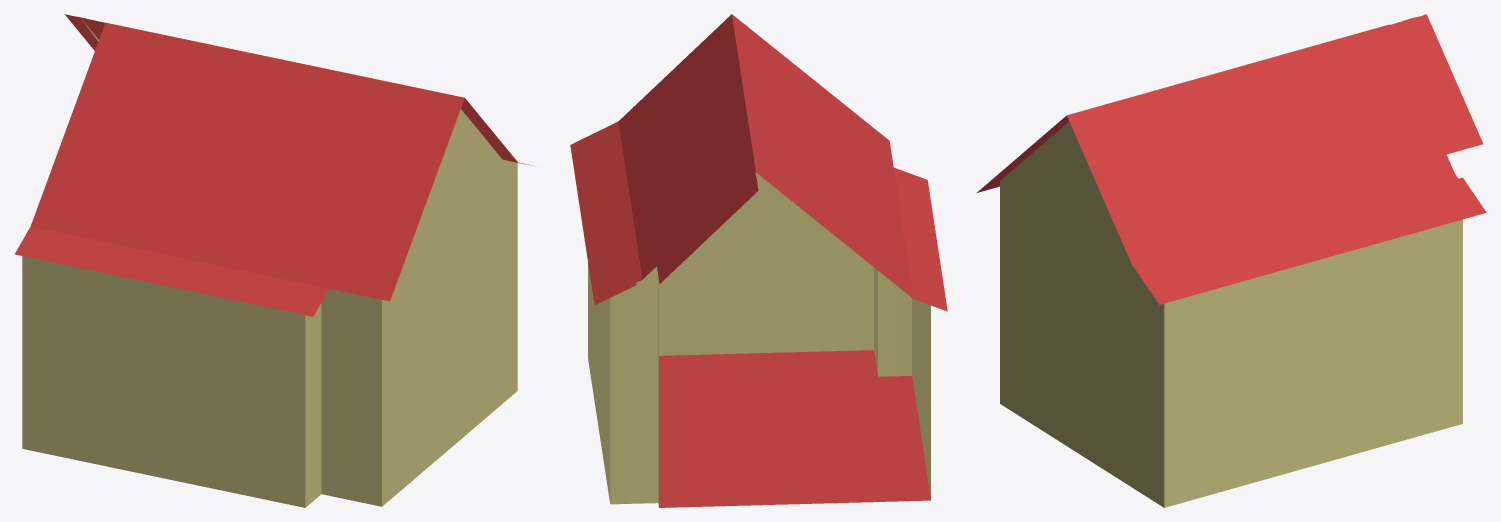
The picture shows the model from 3 angles, left to right: view 1: azimuth 30°, elevation 25°; view 2: azimuth 150°, elevation 25°; view 3: azimuth 270°, elevation 25°; orthographic projection. The views are drawn at different scales.
Bounding box in the file's own units: 22.63 × 22.24 × 16.53.
